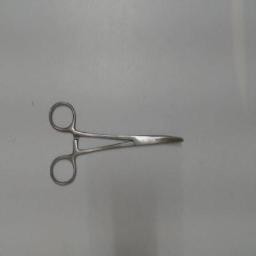Crile Artery Forceps: (48, 95, 192, 191)
